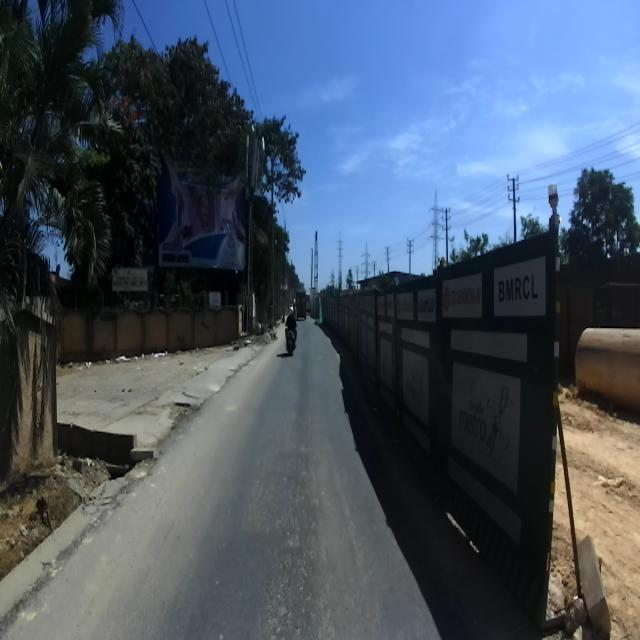barrier ahead at: (323, 228, 554, 597)
